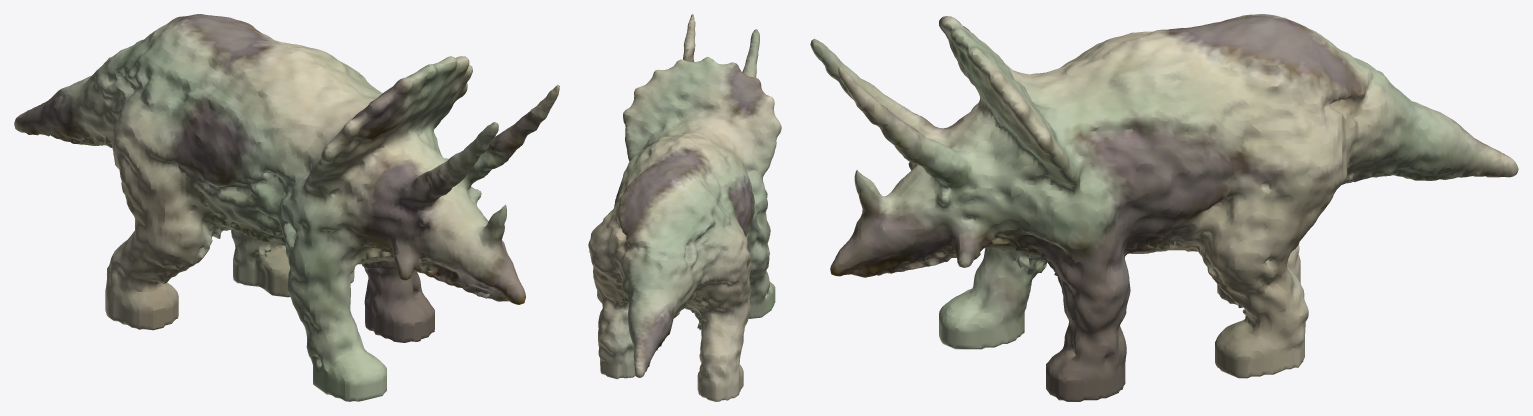
3 renders of one model, left to right at view 1: azimuth 30°, elevation 25°; view 2: azimuth 150°, elevation 25°; view 3: azimuth 270°, elevation 25°, orthographic. The views are drawn at different scales.
Bounding box in the file's own units: 0.0615 × 0.0713 × 0.1321.
